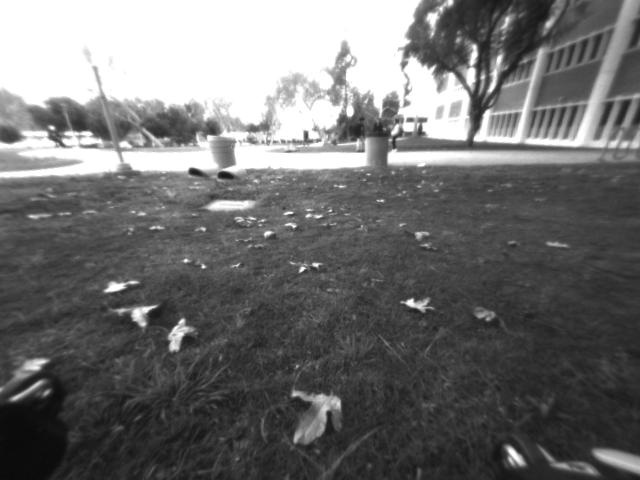trashcan: (208, 135, 241, 173), (366, 131, 392, 175)
